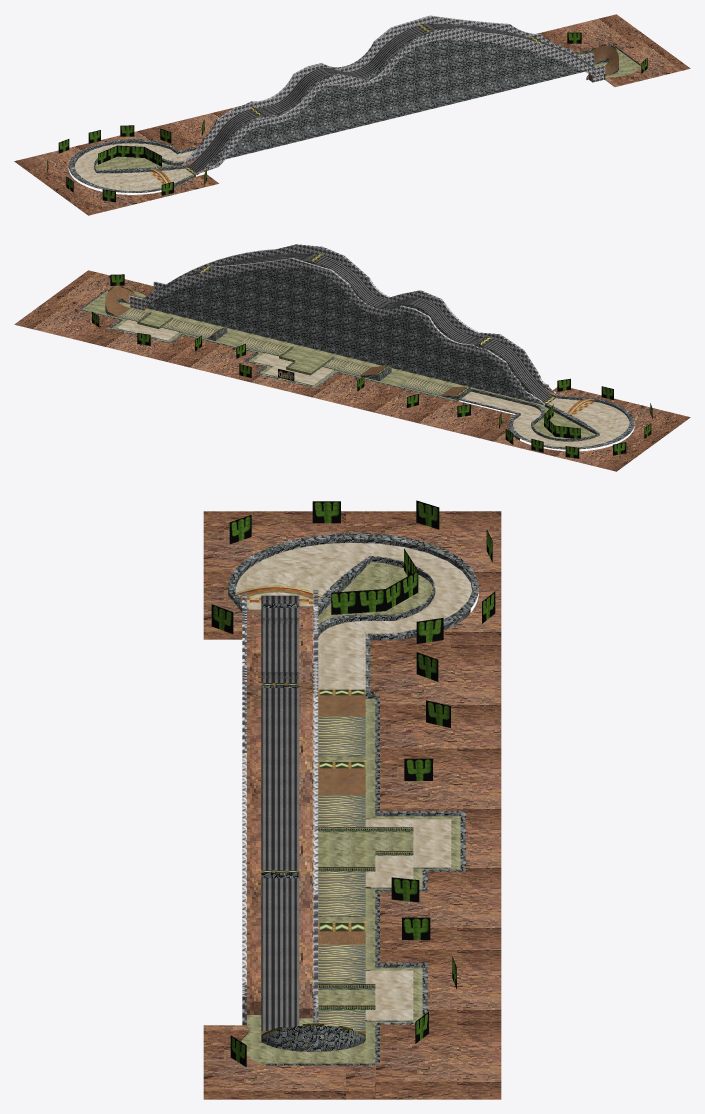
The picture shows the model from 3 angles, top to bottom: view 1: azimuth 30°, elevation 25°; view 2: azimuth 150°, elevation 25°; view 3: azimuth 270°, elevation 25°; orthographic projection. The views are drawn at different scales.
Visible parts, largest first — view 1: course-SKP--pared.001, course-SKP--fallboun, course-SKP--Zmetal, course-SKP--subida, course-SKP--arena, course-SKP--2.001, course-SKP--Zlentoarena, course-SKP--pisotierra; view 2: course-SKP--pared.001, course-SKP--fallboun, course-SKP--Zmetal, course-SKP--Zlentoarena, course-SKP--arena, course-SKP--subida, course-SKP--2.001, course-SKP--pisoarena, course-SKP--pisotierra, course-SKP--1both; view 3: course-SKP--fallboun, course-SKP--arena, course-SKP--subida, course-SKP--Zlentoarena, course-SKP--pared.001, course-SKP--2.001, course-SKP--pisoarena, course-SKP--Zmetal, course-SKP--pisotierra, course-SKP--1both, course-SKP--fkecha.
Boxes of the visible parts, <box> form: course-SKP--pared.001: <box>68,30,640,192</box>; course-SKP--fallboun: <box>14,14,690,215</box>; course-SKP--Zmetal: <box>182,15,605,174</box>; course-SKP--subida: <box>188,23,594,172</box>; course-SKP--arena: <box>74,143,194,190</box>; course-SKP--2.001: <box>47,32,647,202</box>; course-SKP--Zlentoarena: <box>95,46,640,170</box>; course-SKP--pisotierra: <box>585,45,618,75</box>; course-SKP--pared.001: <box>79,260,634,449</box>; course-SKP--fallboun: <box>14,270,690,471</box>; course-SKP--Zmetal: <box>129,244,557,404</box>; course-SKP--Zlentoarena: <box>82,290,595,438</box>; course-SKP--arena: <box>117,319,629,447</box>; course-SKP--subida: <box>143,253,552,401</box>; course-SKP--2.001: <box>92,274,652,458</box>; course-SKP--pisoarena: <box>118,308,451,395</box>; course-SKP--pisotierra: <box>105,287,466,395</box>; course-SKP--1both: <box>137,312,334,375</box>; course-SKP--fallboun: <box>203,511,501,1099</box>; course-SKP--arena: <box>235,543,471,1020</box>; course-SKP--subida: <box>261,595,299,1030</box>; course-SKP--Zlentoarena: <box>241,562,460,1065</box>; course-SKP--pared.001: <box>228,533,478,1065</box>; course-SKP--2.001: <box>211,500,495,1067</box>; course-SKP--pisoarena: <box>318,716,365,1031</box>; course-SKP--Zmetal: <box>242,590,318,1025</box>; course-SKP--pisotierra: <box>261,695,365,1034</box>; course-SKP--1both: <box>318,827,413,1009</box>; course-SKP--fkecha: <box>261,683,365,931</box>.
Size of the model in its own units: 146437 by 21011 by 31287.
Materials: 16 (15 with a texture image).
